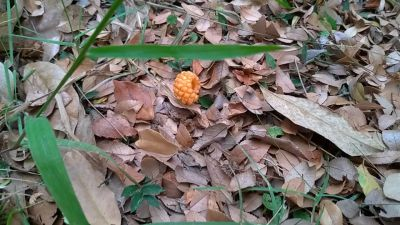eggs: (170, 66, 204, 107)
